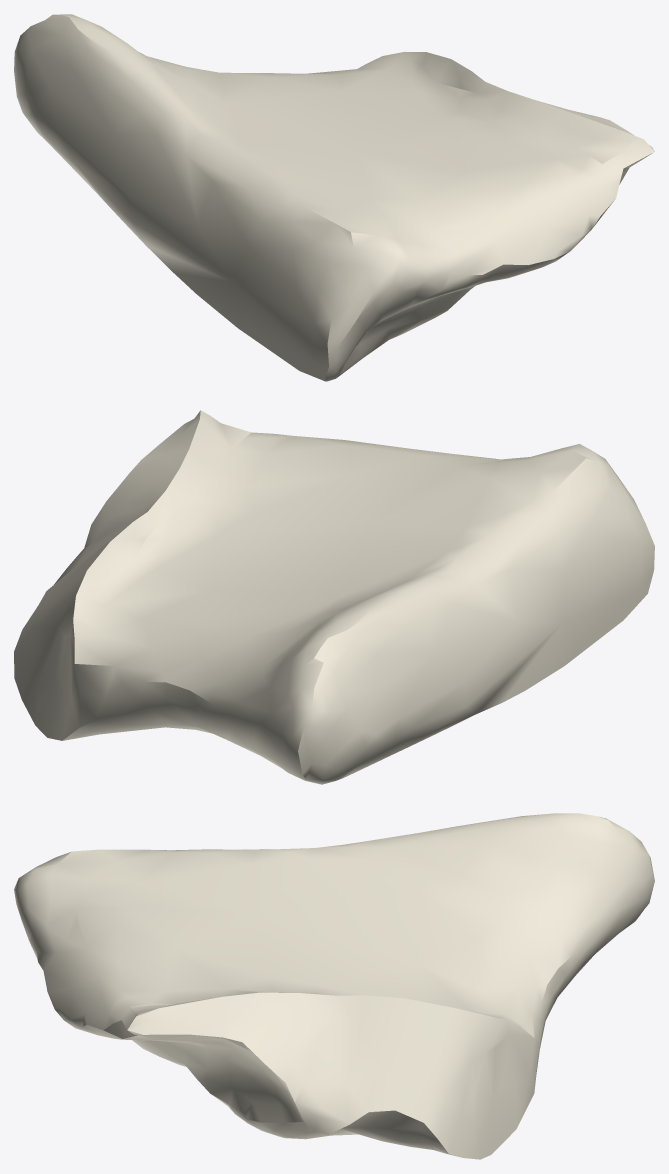
File: fma59140_mm2070.glb
3 renders of one model, top to bottom at view 1: azimuth 30°, elevation 25°; view 2: azimuth 150°, elevation 25°; view 3: azimuth 270°, elevation 25°, orthographic. The views are drawn at different scales.
Parts seen in each view (by area): view 1: FMA59140_MM2070; view 2: FMA59140_MM2070; view 3: FMA59140_MM2070.
Part boxes in pixels (x1,y1,x2,y2): FMA59140_MM2070: (14, 14, 654, 381); FMA59140_MM2070: (14, 410, 654, 784); FMA59140_MM2070: (14, 813, 654, 1159).
Bounding box in the file's own units: 0.0152 × 0.00695 × 0.0206.
